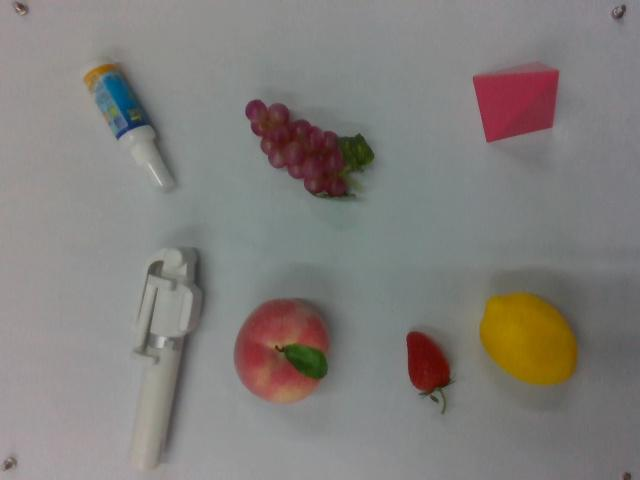detergent: (78, 57, 177, 193)
grape: (240, 95, 373, 204)
lemon: (480, 289, 581, 389)
peach: (234, 296, 330, 408)
pyramid: (474, 59, 561, 147)
selfiestick: (118, 242, 206, 472)
strawberry: (403, 328, 456, 415)
